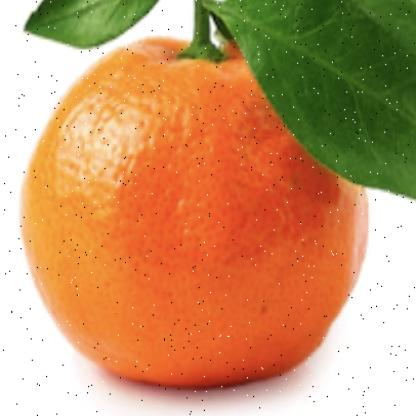fresh: (21, 37, 368, 389)
